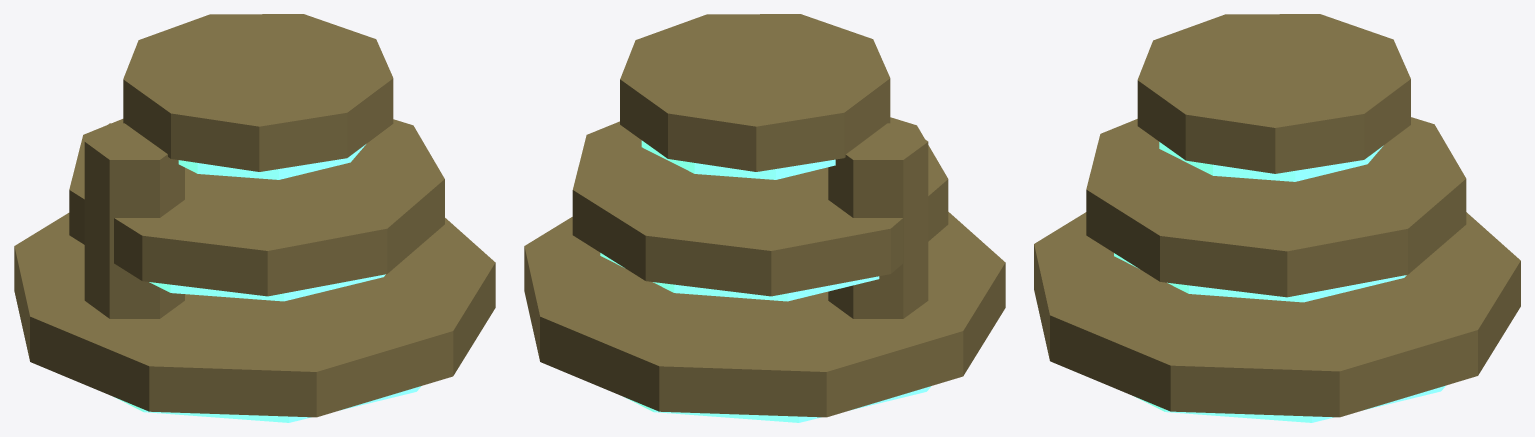
File: fungus_shelf.glb
3 renders of one model, left to right at view 1: azimuth 30°, elevation 25°; view 2: azimuth 150°, elevation 25°; view 3: azimuth 270°, elevation 25°, orthographic.
Parts seen in each view (by area): view 1: part.fungus_shelf; view 2: part.fungus_shelf; view 3: part.fungus_shelf.
Boxes of the visible parts, x1,y1,x2,y2 form: part.fungus_shelf: (14, 14, 495, 422); part.fungus_shelf: (524, 14, 1005, 422); part.fungus_shelf: (1034, 14, 1520, 422).
Bounding box in the file's own units: 0.4314 × 0.2625 × 0.4319.
